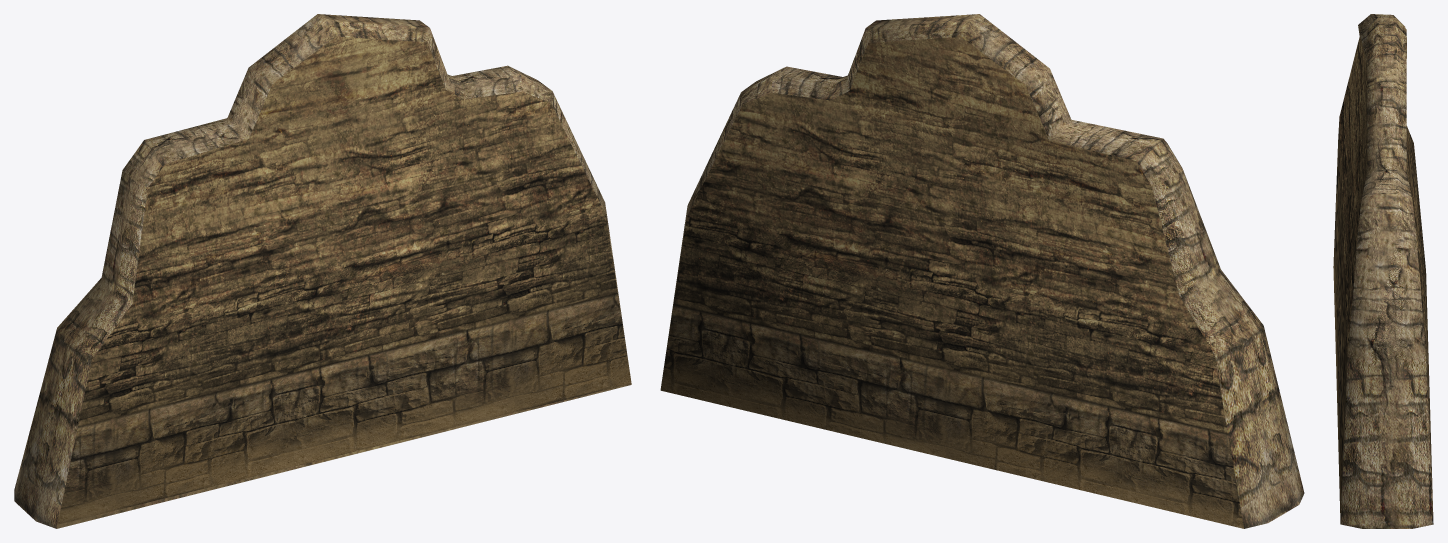
The model's file is SandstoneRuins5.fbx.
3 renders of one model, left to right at view 1: azimuth 30°, elevation 25°; view 2: azimuth 150°, elevation 25°; view 3: azimuth 270°, elevation 25°, orthographic. The views are drawn at different scales.
Parts seen in each view (by area): view 1: Object011; view 2: Object011; view 3: Object011.
Part boxes in pixels (<box>): Object011: <box>14,14,631,528</box>; Object011: <box>660,14,1304,528</box>; Object011: <box>1333,14,1433,528</box>.
Size of the model in its own units: 483 by 323 by 77.03.
